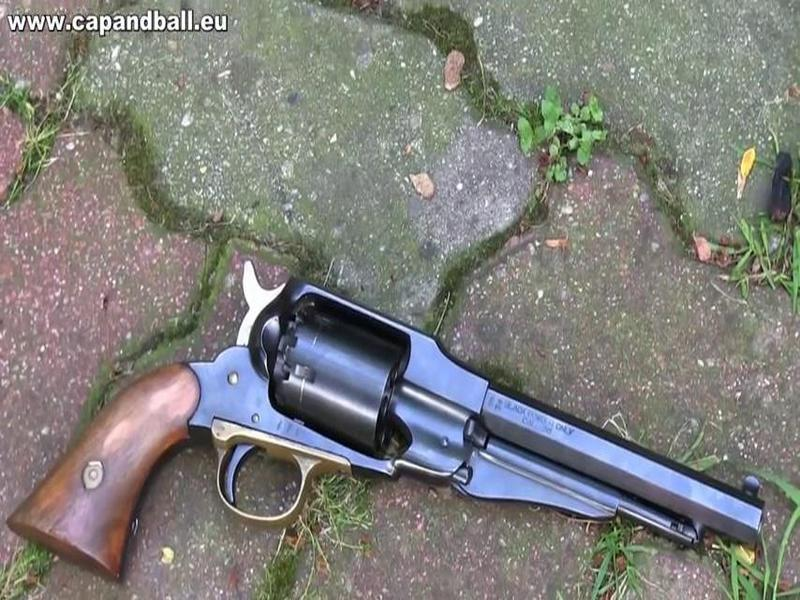Revolver: (13, 251, 800, 580)
